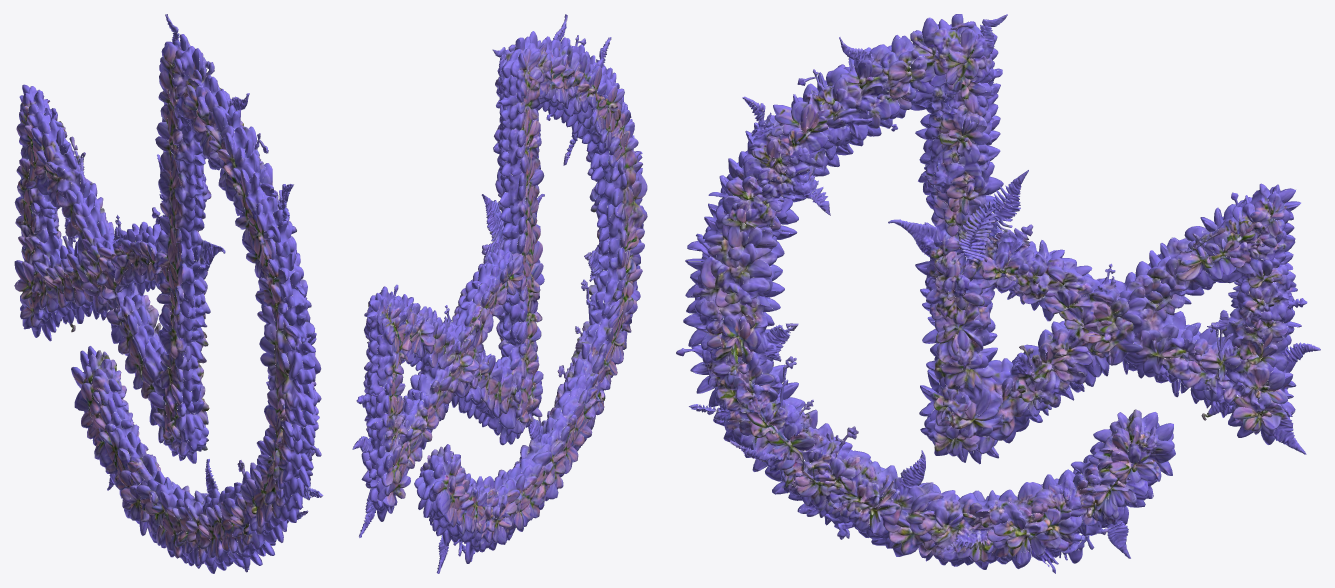
File: floral-letter-web.glb
3 renders of one model, left to right at view 1: azimuth 30°, elevation 25°; view 2: azimuth 150°, elevation 25°; view 3: azimuth 270°, elevation 25°, orthographic. The views are drawn at different scales.
Parts seen in each view (by area): view 1: tripo_node_6c23548d-830f-406a-b8b1-1d9a233b99ff; view 2: tripo_node_6c23548d-830f-406a-b8b1-1d9a233b99ff; view 3: tripo_node_6c23548d-830f-406a-b8b1-1d9a233b99ff.
Boxes of the visible parts, x1,y1,x2,y2 form: tripo_node_6c23548d-830f-406a-b8b1-1d9a233b99ff: (14, 14, 323, 573); tripo_node_6c23548d-830f-406a-b8b1-1d9a233b99ff: (352, 14, 647, 573); tripo_node_6c23548d-830f-406a-b8b1-1d9a233b99ff: (676, 14, 1320, 573).
Bounding box in the file's own units: 0.076 × 0.9384 × 0.9813.
Materials: 1 (1 with a texture image).
